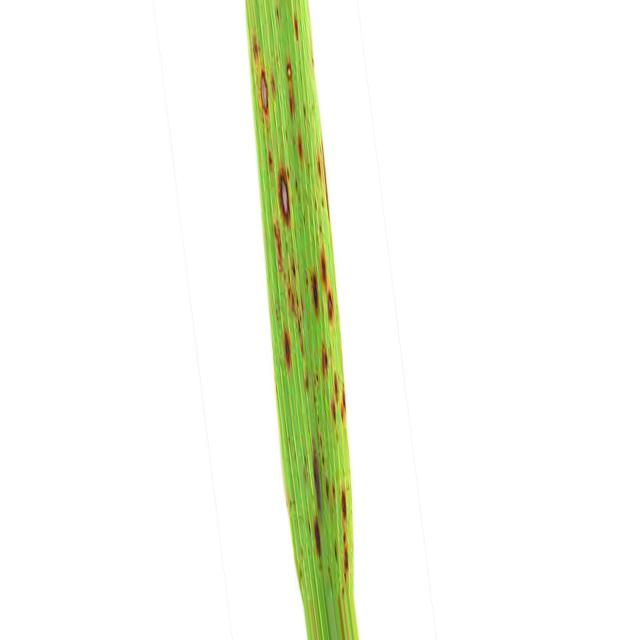Brown_Spot: (309, 449, 322, 506), (330, 375, 345, 422), (286, 61, 295, 116), (279, 175, 290, 216), (322, 471, 338, 499), (272, 221, 282, 264), (325, 291, 338, 319), (260, 149, 274, 173), (318, 250, 328, 282), (261, 71, 269, 110), (311, 274, 319, 310), (315, 155, 326, 181), (340, 490, 348, 523), (284, 331, 291, 368), (314, 516, 321, 553), (295, 131, 304, 158), (321, 345, 329, 375), (249, 36, 259, 59), (342, 550, 351, 571), (294, 20, 299, 41)
